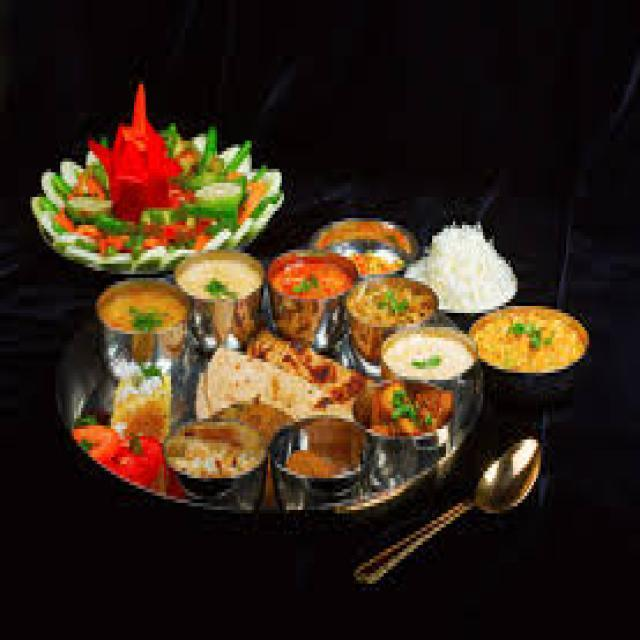curd: (175, 244, 268, 318)
dal: (479, 295, 582, 387), (375, 317, 480, 403), (268, 241, 357, 332), (342, 270, 434, 355), (98, 274, 189, 347)
rice: (423, 223, 515, 317)
veg-fry: (339, 264, 439, 359)
